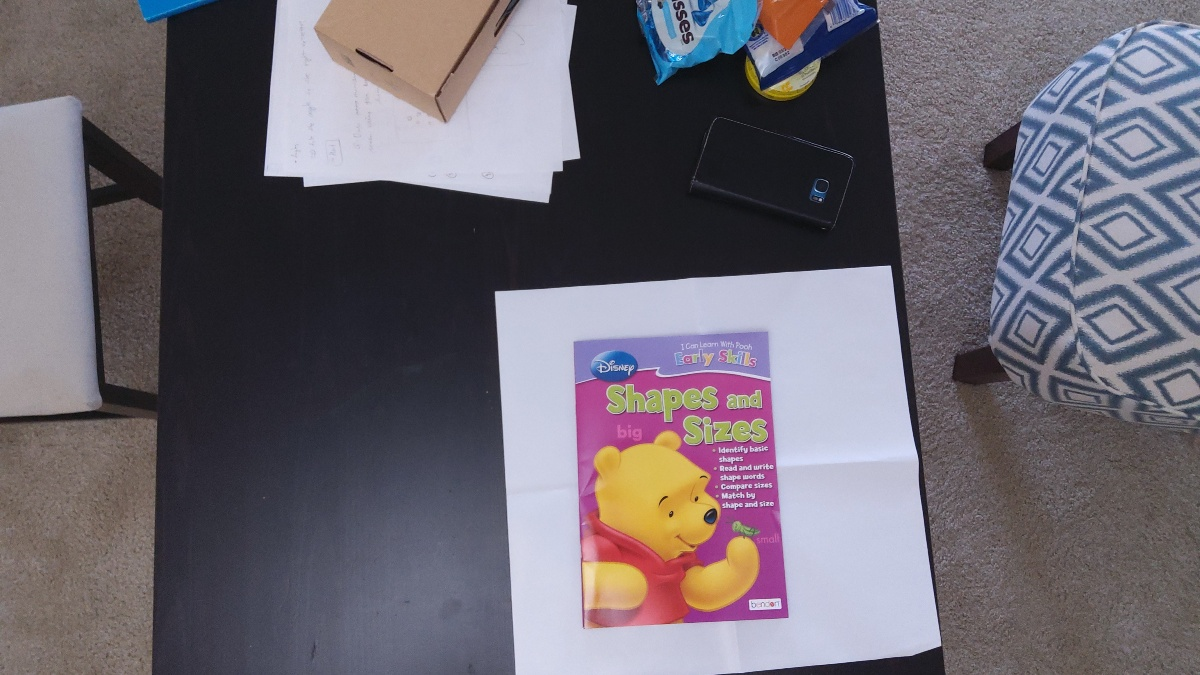book: (575, 340, 777, 618)
